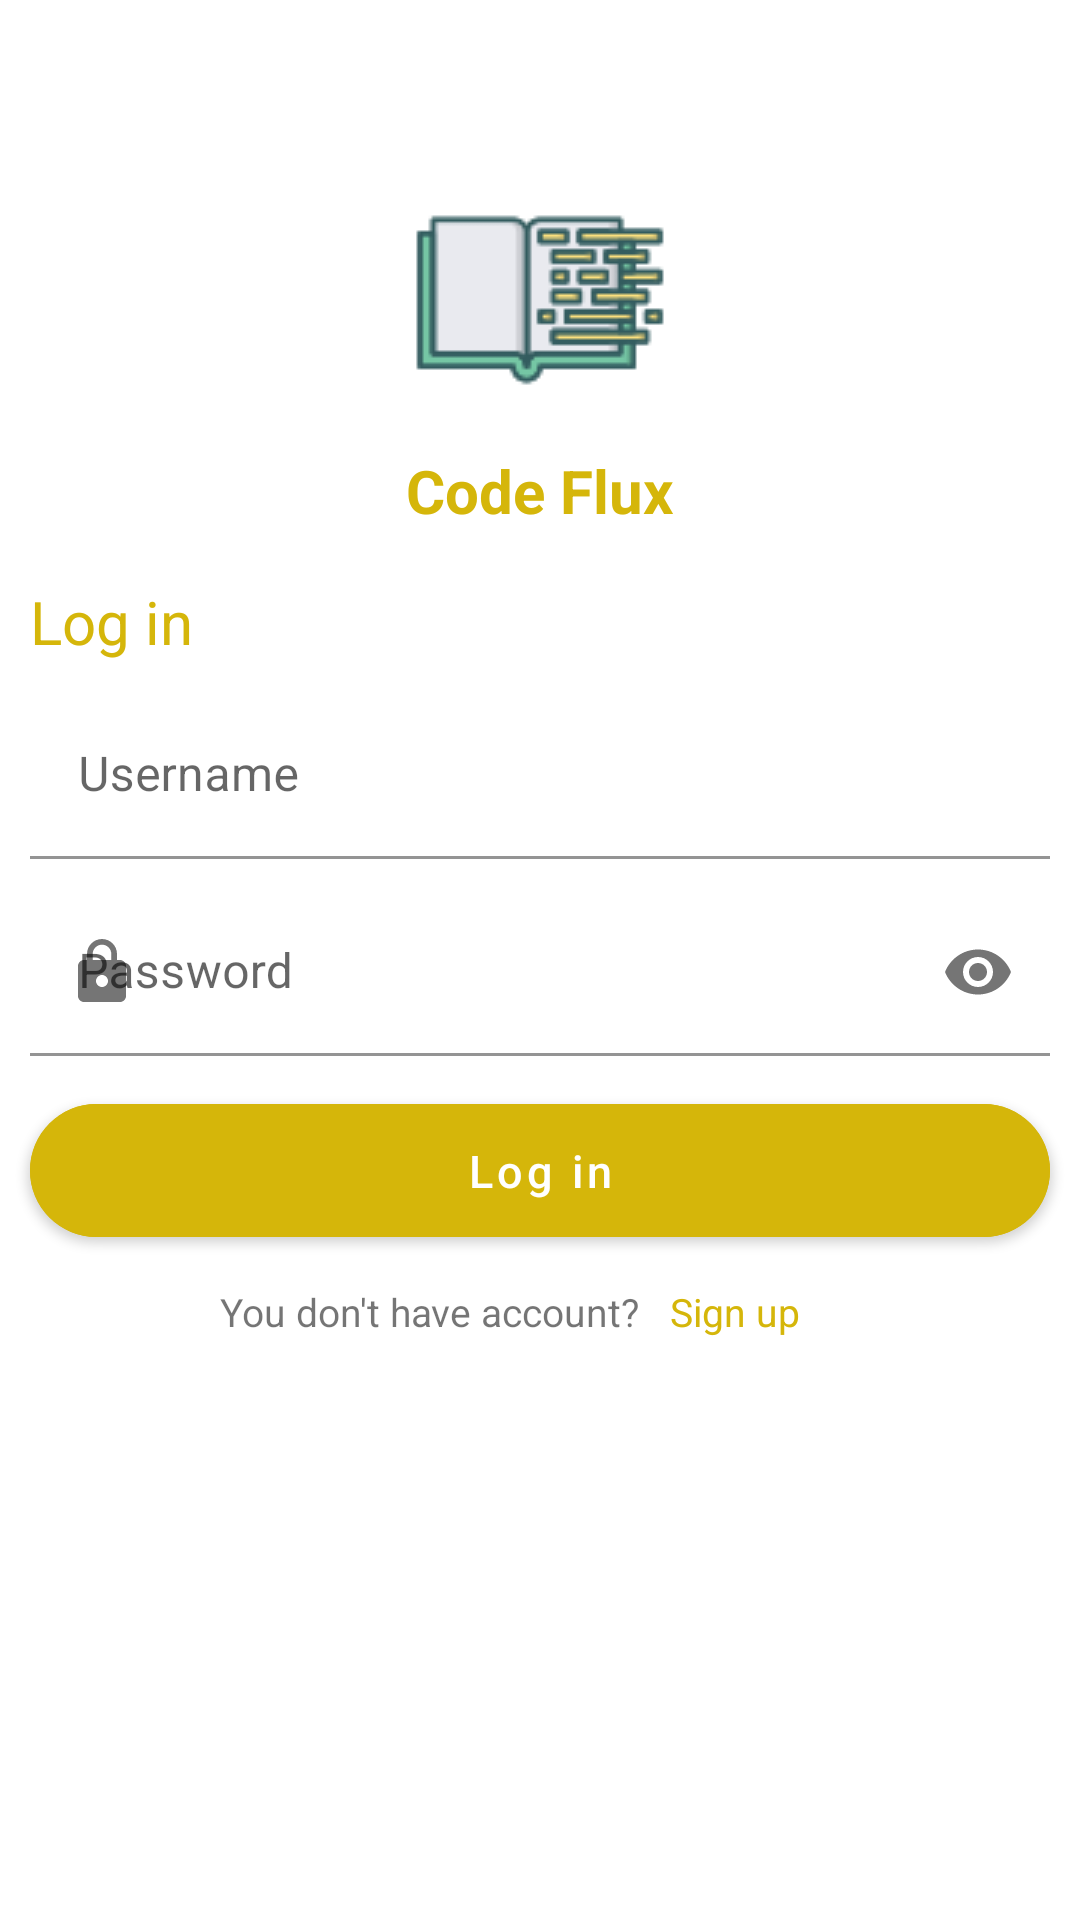

Screen size 1080x1920. Icon name, then its center in pixels as [x,y]:
bookonehundred: [540,300]
